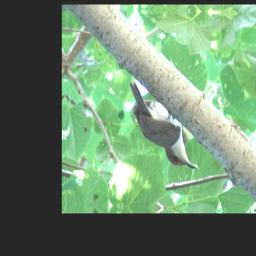Cuckoo: (126, 79, 200, 170)
